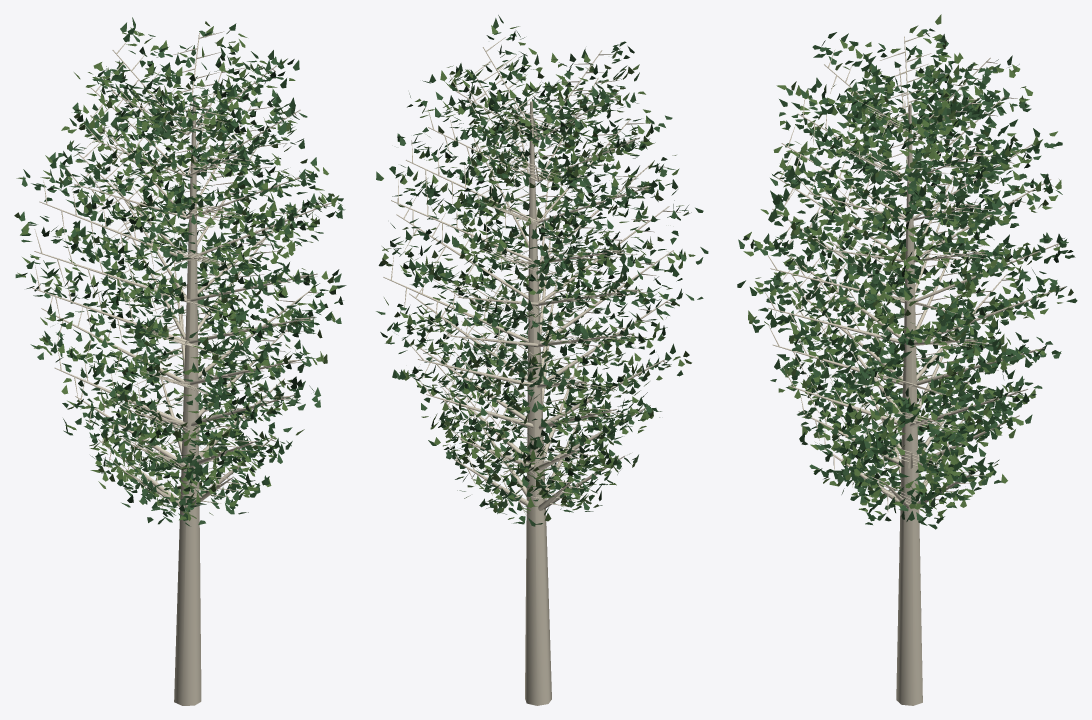
The model's file is forest-birch.glb.
3 renders of one model, left to right at view 1: azimuth 30°, elevation 25°; view 2: azimuth 150°, elevation 25°; view 3: azimuth 270°, elevation 25°, orthographic.
Parts seen in each view (by area): view 1: Foliage • sun, Bark • birch, Foliage • mid, Foliage • shade; view 2: Bark • birch, Foliage • sun, Foliage • mid, Foliage • shade; view 3: Foliage • sun, Foliage • shade, Foliage • mid, Bark • birch.
Part boxes in pixels (x1,y1,x2,y2): Foliage • sun: (14, 21, 342, 520); Bark • birch: (32, 31, 331, 705); Foliage • mid: (15, 17, 345, 526); Foliage • shade: (20, 23, 346, 522); Bark • birch: (383, 37, 680, 705); Foliage • sun: (378, 25, 695, 521); Foliage • mid: (376, 15, 703, 524); Foliage • shade: (380, 30, 708, 526); Foliage • sun: (743, 14, 1073, 520); Foliage • shade: (737, 28, 1077, 529); Foliage • mid: (738, 29, 1068, 521); Bark • birch: (761, 33, 1065, 705).
Size of the model in its own units: 5.97 by 12.7 by 6.08.
